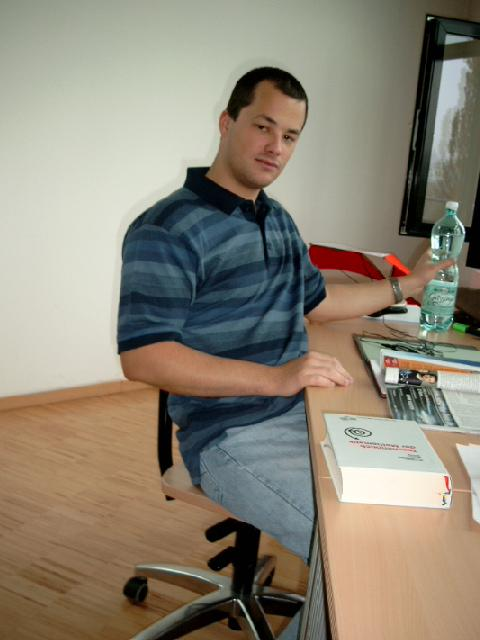Person: (118, 65, 420, 519)
